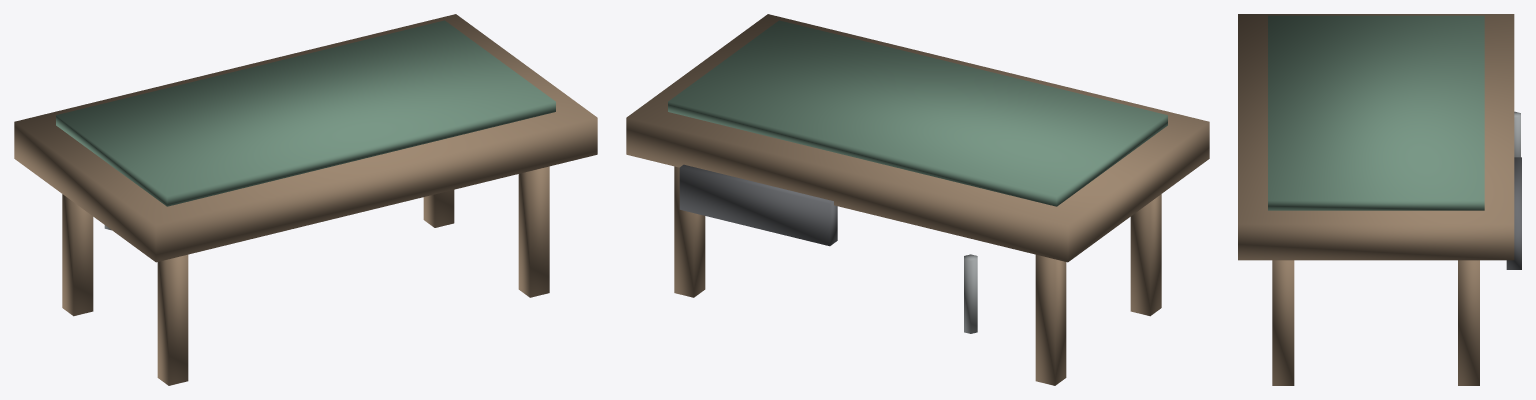
Rendered from pool_table__service.glb.
3 views of the same model, side by side, from view 1: azimuth 30°, elevation 25°; view 2: azimuth 150°, elevation 25°; view 3: azimuth 270°, elevation 25° (orthographic). The views are drawn at different scales.
Parts seen in each view (by area): view 1: world; view 2: world; view 3: world.
Part boxes in pixels (box(x1,y1,x2,y2)): world: box(14, 14, 597, 385); world: box(626, 14, 1209, 385); world: box(1238, 14, 1521, 385).
Bounding box in the file's own units: 2.25 × 0.935 × 1.28.
